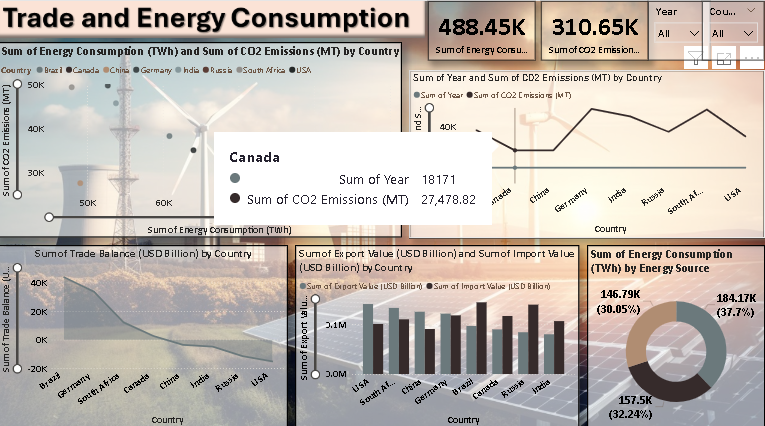

This screenshot's page, from the dashboard's own definition file:
{"tool":"powerbi","page":{"name":"Trade and Energy Consumption Analysis","canvas":[1280,720],"ordinal":2},"visuals":[{"type":"stackedAreaChart","fields":{"Category":["Trade_Development.Country"],"Y":["Sum(Trade_Development.Trade Balance (USD Billion))"]},"box":[0,406.5,485.5,307.4],"z":0},{"type":"clusteredColumnChart","fields":{"Category":["Trade_Development.Country"],"Y":["Sum(Trade_Development.Export Value (USD Billion))","Sum(Trade_Development.Import Value (USD Billion))"]},"box":[497.2,406.5,473.7,307.4],"z":1000},{"type":"donutChart","fields":{"Category":["Energy_Consumption.Energy Source"],"Y":["Sum(Energy_Consumption.Energy Consumption (TWh))"]},"box":[982.7,406.5,297.3,307.4],"z":2000},{"type":"lineChart","fields":{"Y":["Sum(Energy_Consumption.Year)","Sum(Energy_Consumption.CO2 Emissions (MT))"],"Category":["Energy_Consumption.Country"]},"box":[687,114.2,593,280.5],"z":3000},{"type":"scatterChart","fields":{"X":["Sum(Energy_Consumption.Energy Consumption (TWh))"],"Y":["Sum(Energy_Consumption.CO2 Emissions (MT))"],"Series":["Energy_Consumption.Country"]},"box":[0,68.9,675.3,325.9],"z":4000},{"type":"card","fields":{"Values":["Sum(Energy_Consumption.Energy Consumption (TWh))"]},"box":[718.6,0,178.6,99.4],"z":5000},{"type":"card","fields":{"Values":["Sum(Energy_Consumption.CO2 Emissions (MT))"]},"box":[907.2,0,178.6,99.4],"z":6000},{"type":"slicer","fields":{"Values":["Energy_Consumption.Year"]},"box":[1085.8,0,103.7,99.4],"z":7000},{"type":"slicer","fields":{"Values":["Energy_Consumption.Country"]},"box":[1175,0,103.7,99.4],"z":8000}]}

Visuals, with their boxes in screenshot pixels (x1, y1, x2, y2), scaled from the page's 1280x720 canvas onto the 765x426 screenshot:
stackedAreaChart - Trade_Development.Country x Sum(Trade_Development.Trade Balance (USD Billion)): crop(0, 241, 290, 422)
clusteredColumnChart - Trade_Development.Country x Sum(Trade_Development.Export Value (USD Billion)): crop(297, 241, 580, 422)
donutChart - Energy_Consumption.Energy Source x Sum(Energy_Consumption.Energy Consumption (TWh)): crop(587, 241, 764, 422)
lineChart - Sum(Energy_Consumption.Year) x Sum(Energy_Consumption.CO2 Emissions (MT)): crop(411, 68, 764, 234)
scatterChart - Sum(Energy_Consumption.Energy Consumption (TWh)) x Sum(Energy_Consumption.CO2 Emissions (MT)): crop(0, 41, 404, 234)
card - Sum(Energy_Consumption.Energy Consumption (TWh)): crop(429, 0, 536, 59)
card - Sum(Energy_Consumption.CO2 Emissions (MT)): crop(542, 0, 649, 59)
slicer - Energy_Consumption.Year: crop(649, 0, 711, 59)
slicer - Energy_Consumption.Country: crop(702, 0, 764, 59)
